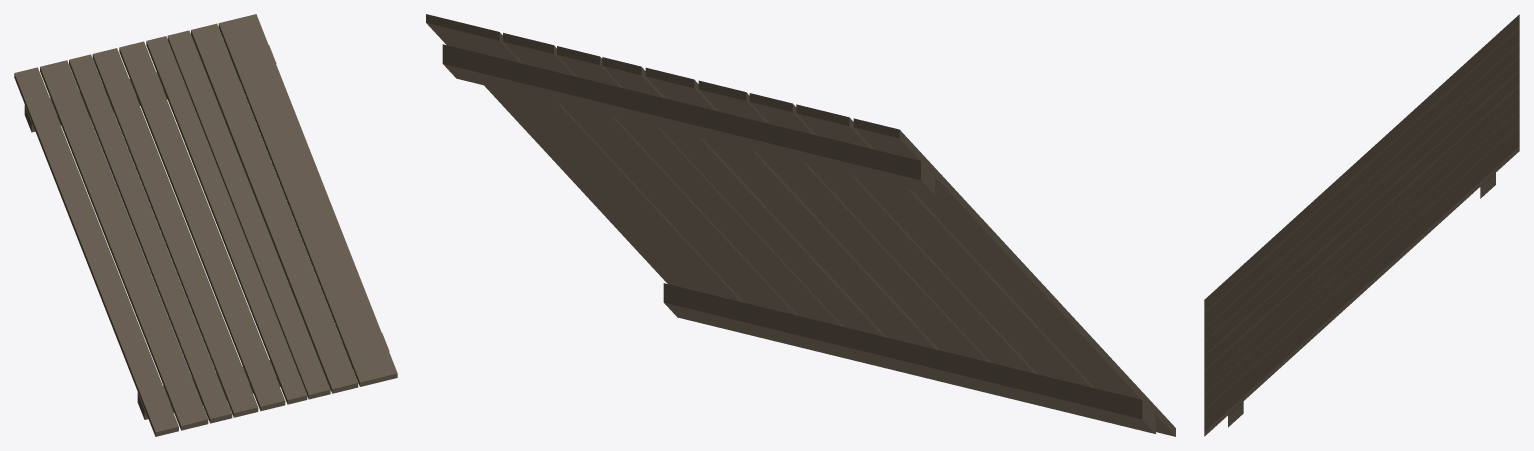
File: dach_bretter_2x2.glb
3 renders of one model, left to right at view 1: azimuth 30°, elevation 25°; view 2: azimuth 150°, elevation 25°; view 3: azimuth 270°, elevation 25°, orthographic. The views are drawn at different scales.
Visible parts, largest first — view 1: dach_bretter_2x2; view 2: dach_bretter_2x2; view 3: dach_bretter_2x2.
Boxes of the visible parts, bbox=[...] form: dach_bretter_2x2: bbox=[14, 14, 397, 436]; dach_bretter_2x2: bbox=[426, 14, 1175, 436]; dach_bretter_2x2: bbox=[1204, 14, 1519, 436].
Bounding box in the file's own units: 2 × 2.04 × 2.
